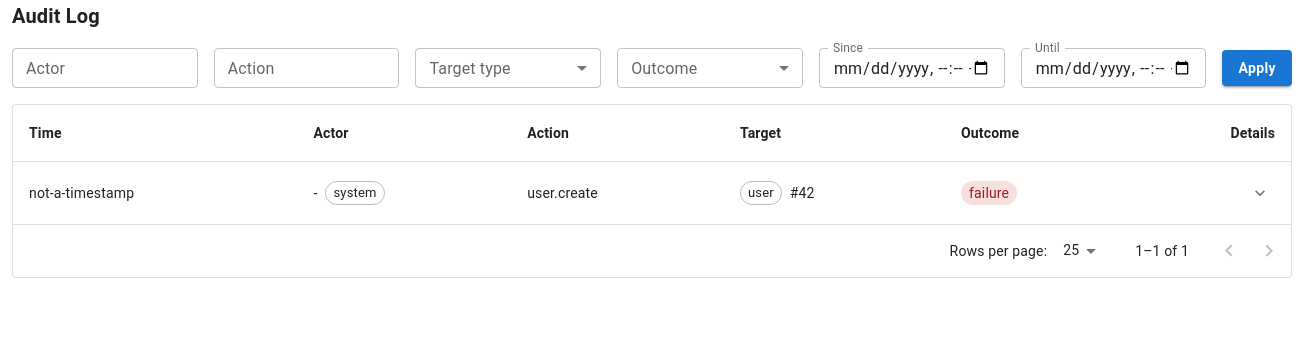
Test case: AdminAuditLog › falls back sensibly for a sparse event
Expected: the text "not-a-timestamp" is shown, 29,185 -> 134,201
Expected: the text "#42" is shown, 790,183 -> 815,203
Click the button named "Show details": x=1260, y=193 1245,178 -> 1275,208
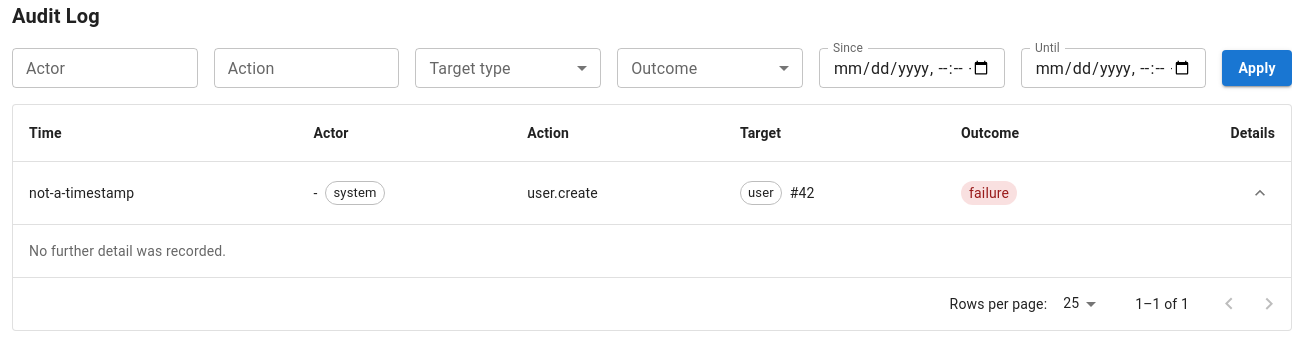
Result: the element with test id "audit-details-10" reads "No further detail was recorded." at 29,243 -> 226,259
